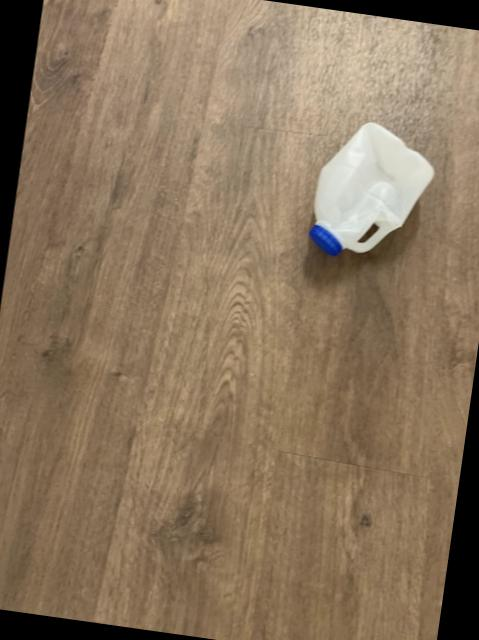plastic: (310, 121, 434, 254)
